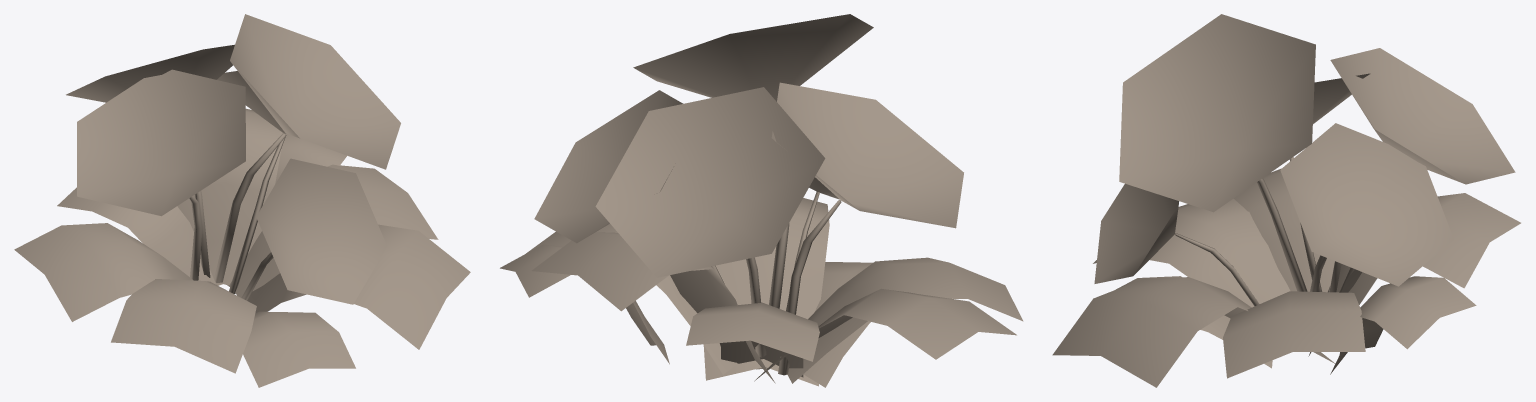
Rendered from Plant_Flowers.glb.
3 views of the same model, side by side, from view 1: azimuth 30°, elevation 25°; view 2: azimuth 150°, elevation 25°; view 3: azimuth 270°, elevation 25° (orthographic). The views are drawn at different scales.
Visible parts, largest first — view 1: Flowers; view 2: Flowers; view 3: Flowers.
Part boxes in pixels (x1,y1,x2,y2): Flowers: (14, 14, 470, 387); Flowers: (500, 14, 1023, 387); Flowers: (1052, 14, 1520, 387).
Size of the model in its own units: 1.48 by 1.18 by 1.53.
